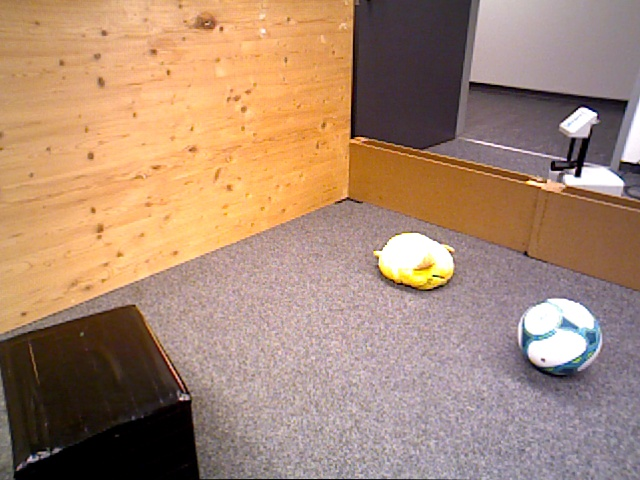grasp: (378, 231, 455, 294)
kick: (517, 296, 603, 379)
push: (2, 306, 201, 480)
